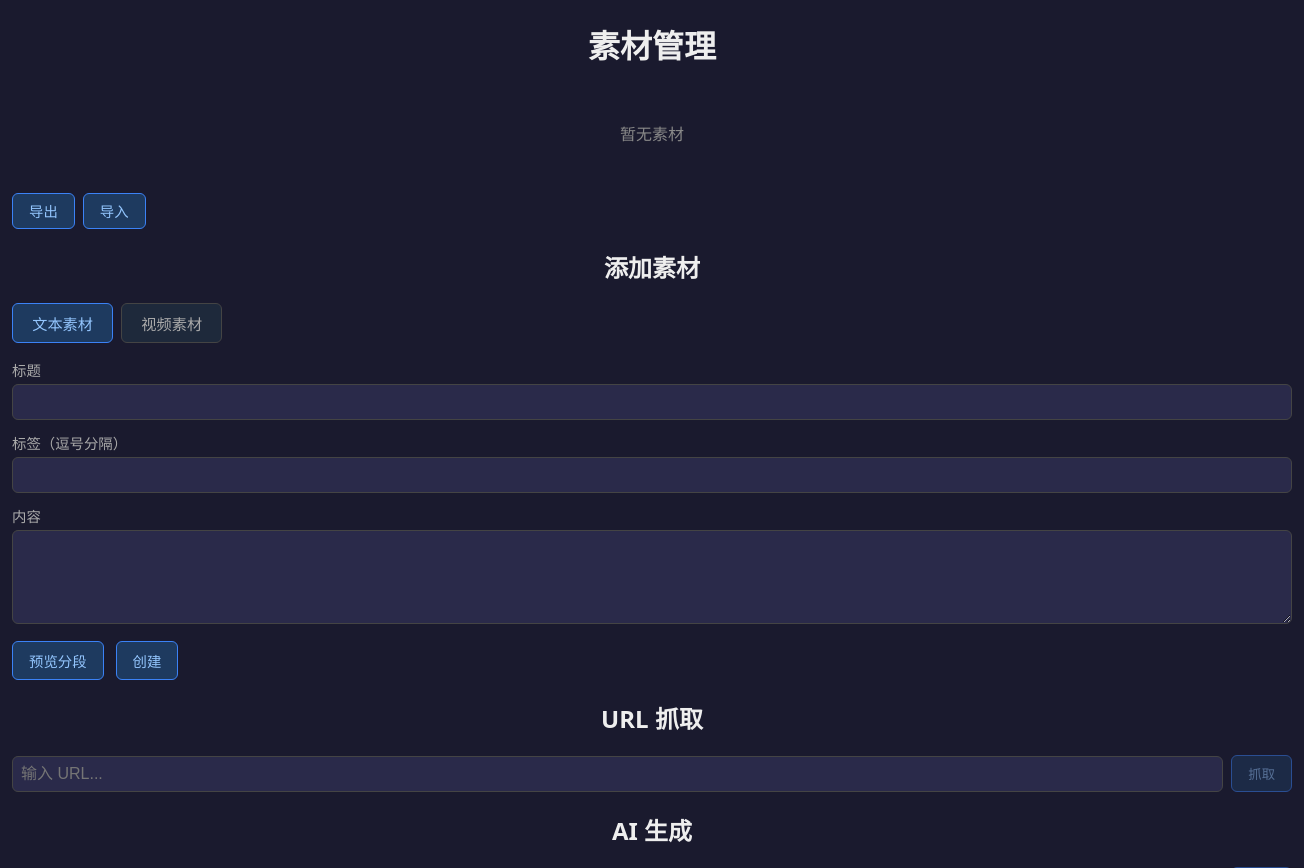
AdminPage — error handling › shows error when create fails
Type "测试" into the field named "title" below "标题" at (652, 402), box [12,384,1292,420]
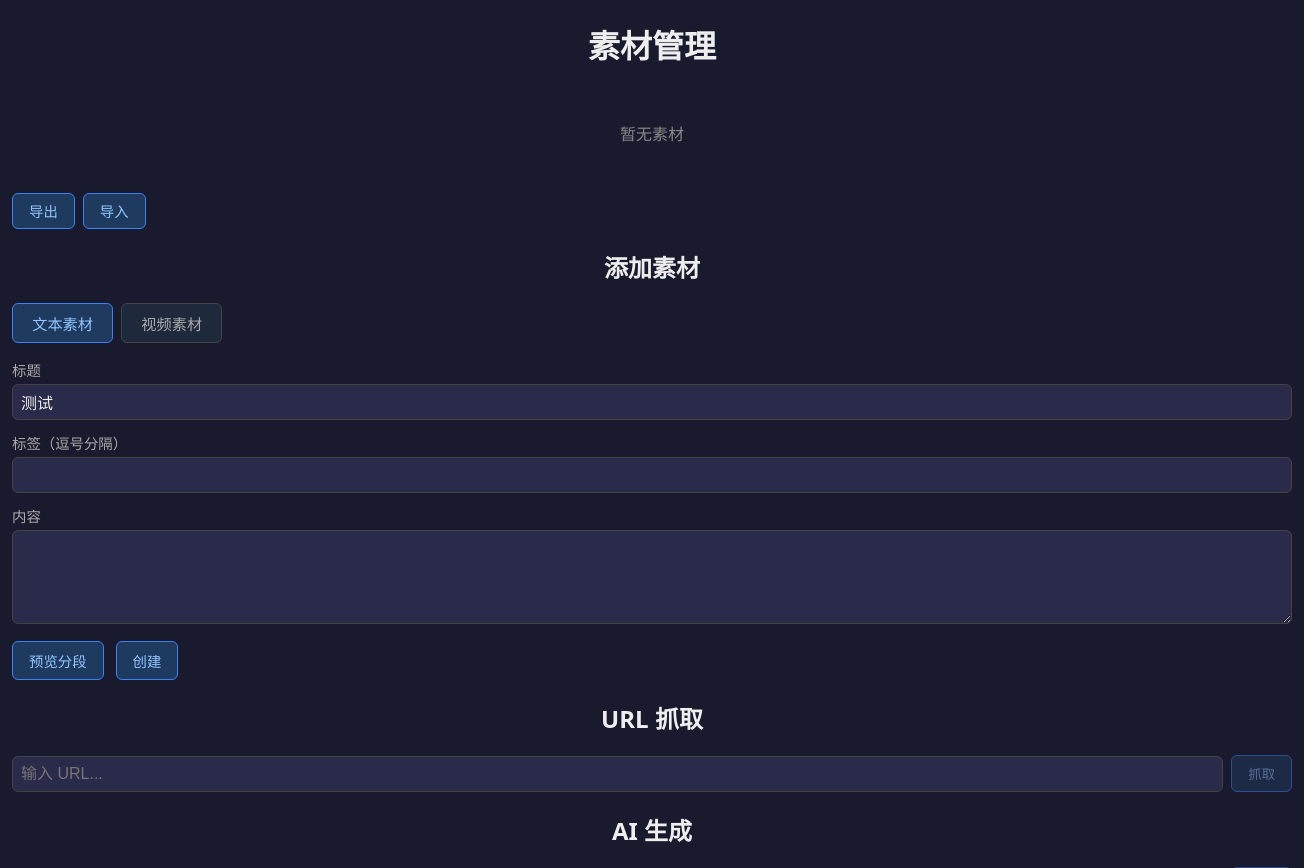
Type "内容。" into the text box named "content" at (652, 578), box [12,530,1292,624]
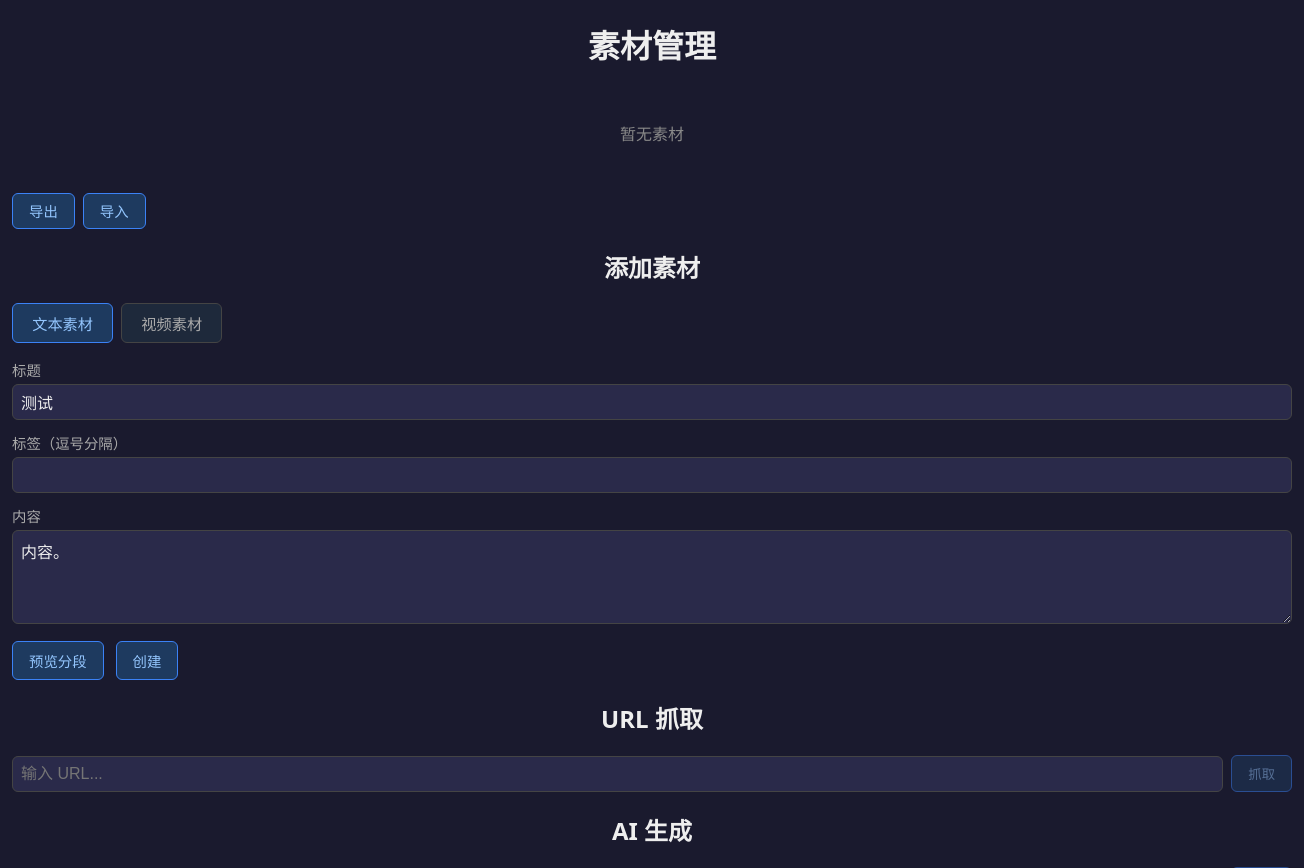
Submit the form with class "create-form", box [12,360,1292,680]
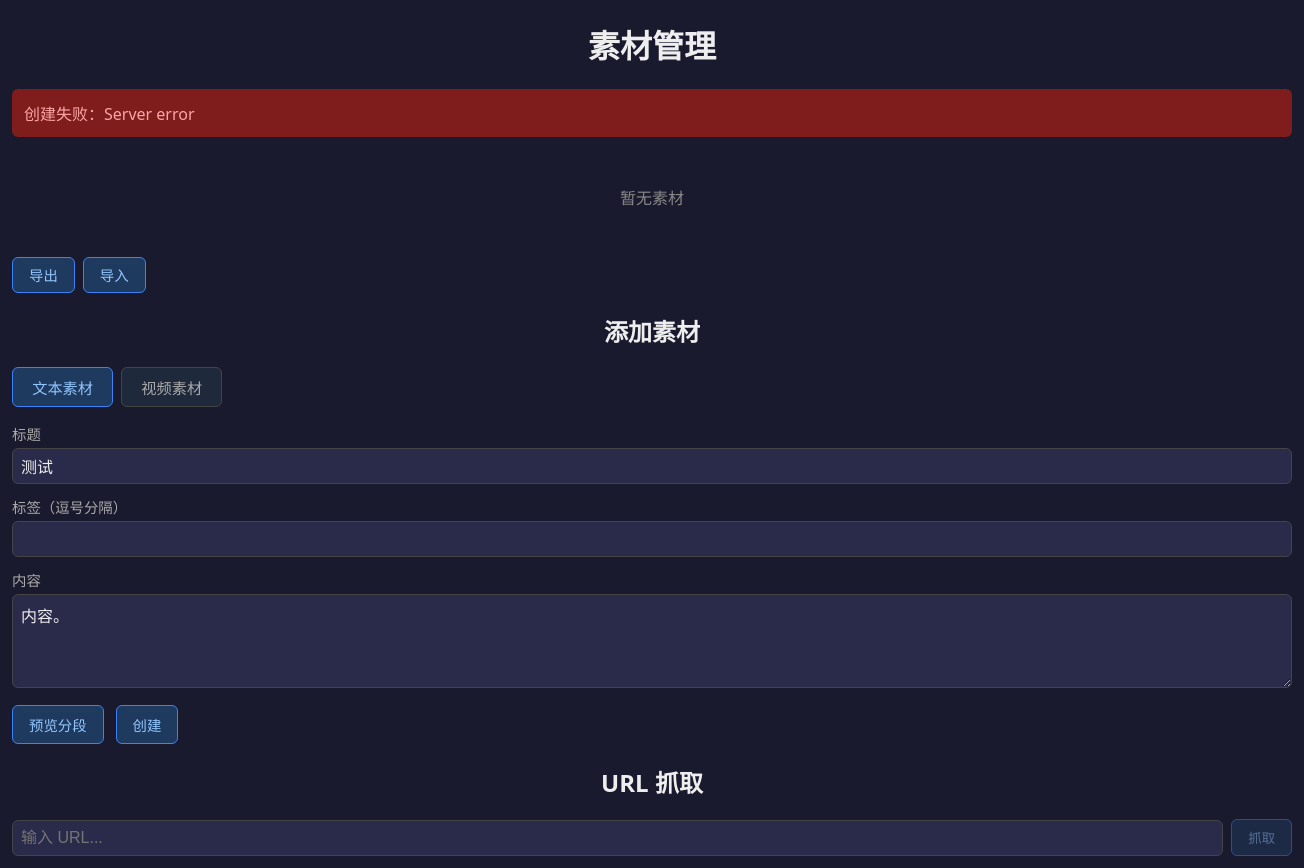
Now the text with class "error-banner" shows "创建失败", box [24,103,194,125]
